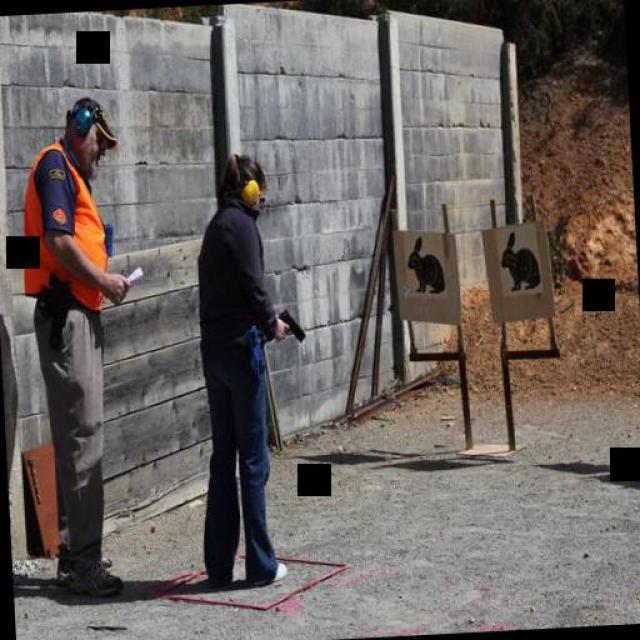gun: (269, 294, 305, 344)
